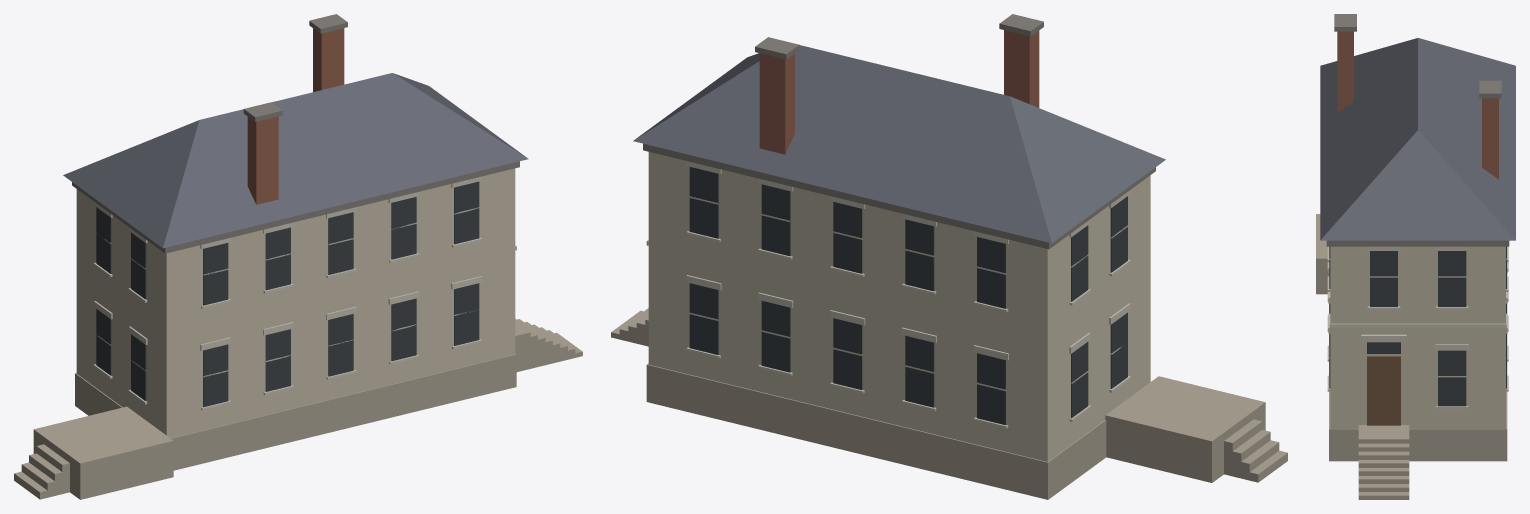
The model's file is house_2107_indiana__draft_1904.glb.
3 renders of one model, left to right at view 1: azimuth 30°, elevation 25°; view 2: azimuth 150°, elevation 25°; view 3: azimuth 270°, elevation 25°, orthographic. The views are drawn at different scales.
Parts seen in each view (by area): view 1: house_2107_indiana__draft_1904; view 2: house_2107_indiana__draft_1904; view 3: house_2107_indiana__draft_1904.
Boxes of the visible parts, x1,y1,x2,y2 form: house_2107_indiana__draft_1904: (14, 14, 582, 499); house_2107_indiana__draft_1904: (611, 14, 1287, 499); house_2107_indiana__draft_1904: (1316, 14, 1515, 499).
Bounding box in the file's own units: 22.25 × 12.69 × 7.1.
